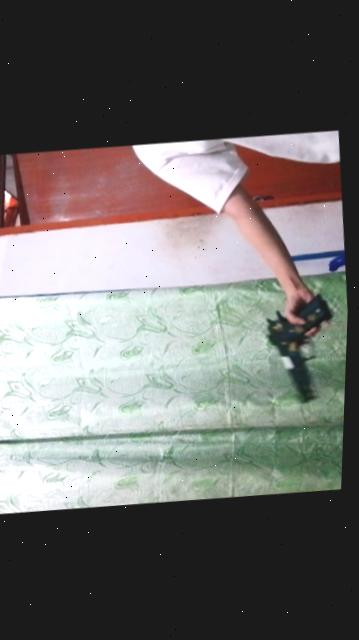pistol: (256, 271, 350, 418)
